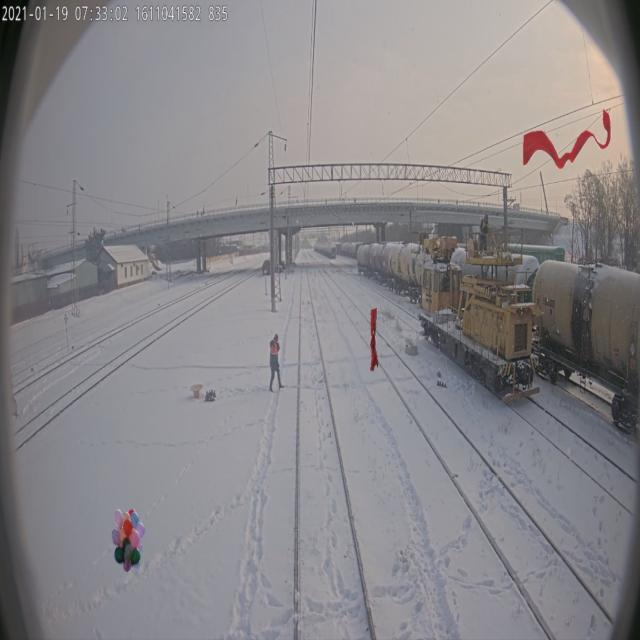balloon: (112, 508, 145, 572)
floating object: (522, 106, 612, 170), (370, 307, 379, 371)
